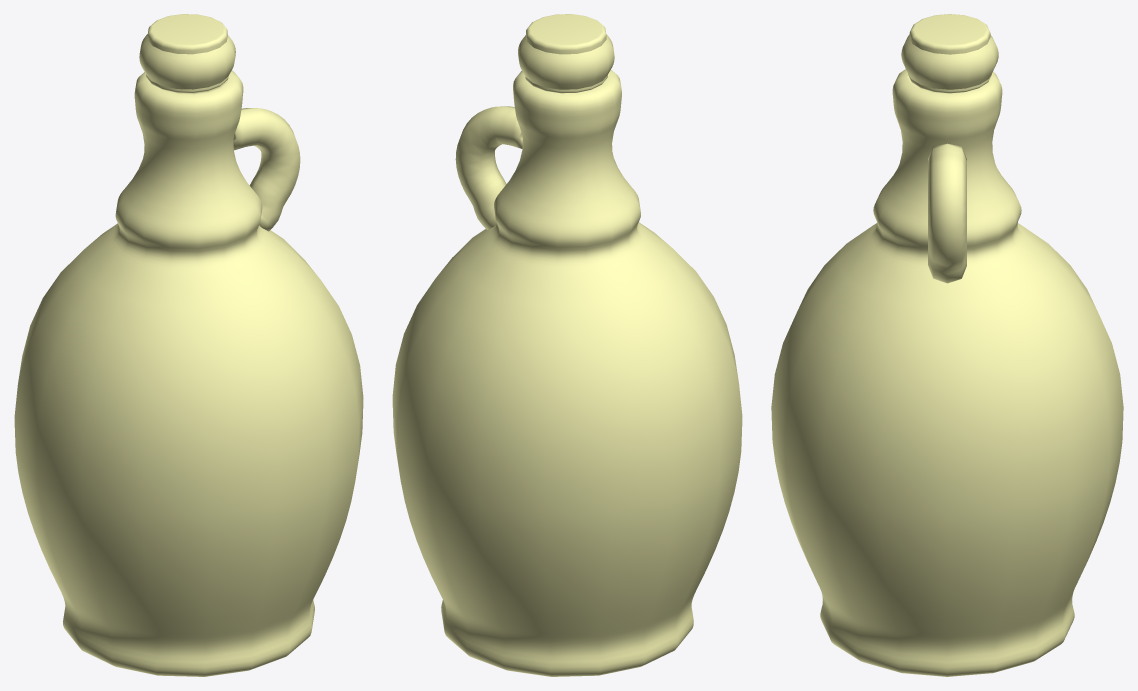
Rendered from MangaKa Props - A_R_Bottle_20.glb.
3 renders of one model, left to right at view 1: azimuth 30°, elevation 25°; view 2: azimuth 150°, elevation 25°; view 3: azimuth 270°, elevation 25°, orthographic.
Visible parts, largest first — view 1: A_R_Bottle_20_blueScreen; view 2: A_R_Bottle_20_blueScreen; view 3: A_R_Bottle_20_blueScreen.
Boxes of the visible parts, bbox=[...] form: A_R_Bottle_20_blueScreen: bbox=[14, 14, 363, 676]; A_R_Bottle_20_blueScreen: bbox=[392, 14, 742, 676]; A_R_Bottle_20_blueScreen: bbox=[771, 14, 1123, 676].
Bounding box in the file's own units: 0.1763 × 0.3304 × 0.1763.
